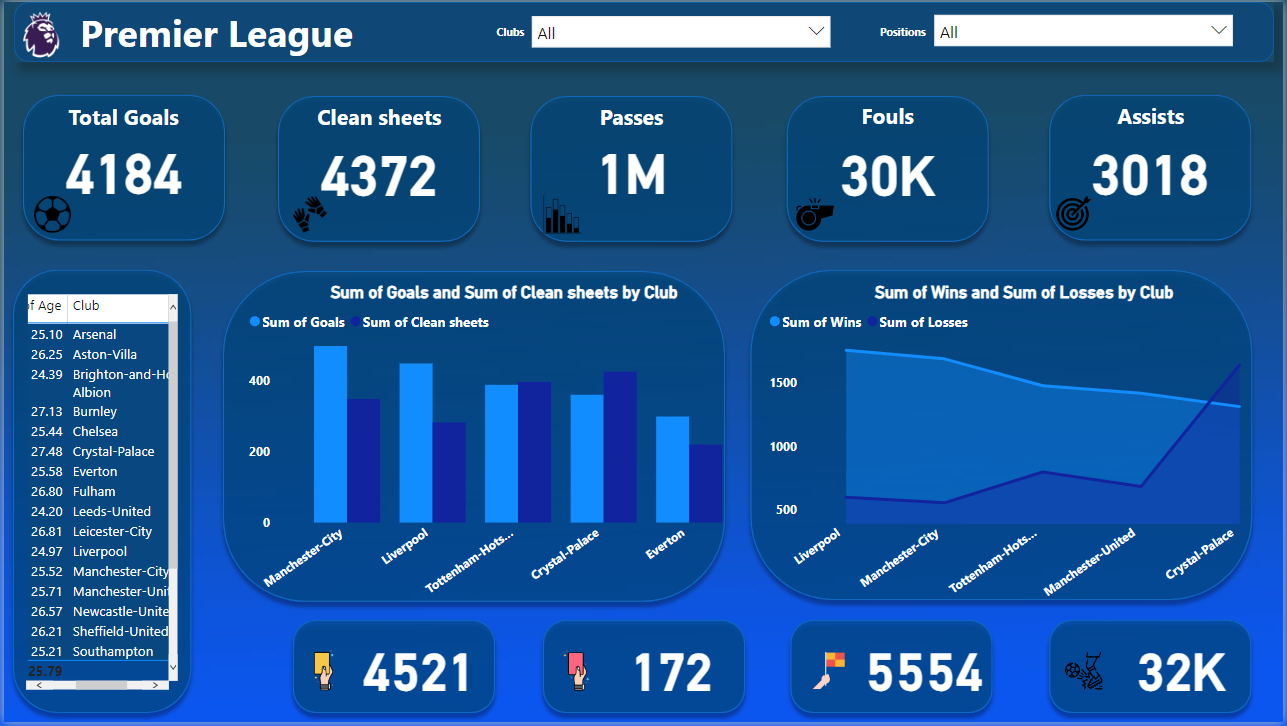

Layout of this report page (visuals, bound fields, positions):
{"tool":"powerbi","page":{"name":"premier league","canvas":[1280,720],"ordinal":0},"visuals":[{"type":"shape","box":[10,0,1260,60],"z":0},{"type":"textbox","box":[60,0,305,65],"z":1000},{"type":"slicer","fields":{"Values":["Sheet1.Club"]},"box":[517.5,3.8,318.8,58.8],"z":2000},{"type":"image","box":[0,0,73.8,65],"z":3000},{"type":"slicer","fields":{"Values":["Sheet1.Position"]},"box":[920,2.5,318.8,58.8],"z":4000},{"type":"textbox","box":[857.5,15,82.5,30],"z":5000},{"type":"textbox","box":[465,15,82.5,30],"z":6000},{"type":"shape","box":[10,83.8,220,163.8],"z":7000},{"type":"shape","box":[265,85,220,163.8],"z":8000},{"type":"shape","box":[517.5,85,220,163.8],"z":9000},{"type":"shape","box":[773.8,85,220,163.8],"z":10000},{"type":"shape","box":[1036.2,83.8,220,163.8],"z":11000},{"type":"card","title":"Total Goals","fields":{"Values":["Sum(Sheet1.Goals)"]},"box":[10,83.8,220,162.5],"z":12000},{"type":"card","title":"Total Goals","fields":{"Values":["Sum(Sheet1.Clean sheets)"]},"box":[265,86.2,220,162.5],"z":13000},{"type":"card","title":"Total Goals","fields":{"Values":["Sum(Sheet1.Passes)"]},"box":[517.5,83.8,220,162.5],"z":14000},{"type":"card","title":"Total Goals","fields":{"Values":["Sum(Sheet1.Fouls)"]},"box":[773.8,86.2,220,162.5],"z":15000},{"type":"card","title":"Total Goals","fields":{"Values":["Sum(Sheet1.Assists)"]},"box":[1036.2,85,220,162.5],"z":16000},{"type":"textbox","box":[32.5,94.8,174,41.6],"z":17000},{"type":"textbox","box":[281.8,94.8,188.3,41.6],"z":18000},{"type":"textbox","box":[558.4,94.8,137.7,42.9],"z":19000},{"type":"textbox","box":[801.3,93.5,164.9,42.9],"z":20000},{"type":"textbox","box":[1068.8,93.5,155.8,42.9],"z":21000},{"type":"shape","box":[737,259.3,519.8,348.1],"z":22000},{"type":"areaChart","fields":{"Y":["Sum(Sheet1.Wins)","Sum(Sheet1.Losses)"],"Category":["Sheet1.Club"]},"box":[760,280,520,327.5],"z":23000},{"type":"shape","box":[210,260,520,348.8],"z":24000},{"type":"clusteredColumnChart","fields":{"Category":["Sheet1.Club"],"Y":["Sum(Sheet1.Goals)","Sum(Sheet1.Clean sheets)"]},"box":[240,280,520,327.5],"z":25000},{"type":"shape","box":[0,258.8,196.2,461.2],"z":26000},{"type":"tableEx","fields":{"Values":["Avg(Sheet1.Age)","Sheet1.Club"]},"box":[17.5,287.5,161.2,405],"z":27000},{"type":"shape","box":[280,608.8,220,111.2],"z":28000},{"type":"shape","box":[777.5,608.8,220,111.2],"z":30000},{"type":"shape","box":[1036.2,608.8,220,111.2],"z":31000},{"type":"shape","box":[530,608.8,220,111.2],"z":31001},{"type":"card","title":"Total Goals","fields":{"Values":["Sum(Sheet1.Yellow cards)"]},"box":[345,628.8,140,71.2],"z":31002},{"type":"card","title":"Total Goals","fields":{"Values":["Sum(Sheet1.Red cards)"]},"box":[597.5,628.8,140,71.2],"z":31003},{"type":"card","title":"Total Goals","fields":{"Values":["Sum(Sheet1.Offsides)"]},"box":[850,628.8,140,71.2],"z":31004},{"type":"card","title":"Total Goals","fields":{"Values":["Sum(Sheet1.Shots)"]},"box":[1107.5,628.8,140,71.2],"z":31005},{"type":"image","box":[23.8,187.5,50,50],"z":31006},{"type":"image","box":[281.2,187.5,50,50],"z":31007},{"type":"image","box":[533.8,187.5,50,50],"z":31008},{"type":"image","box":[786.2,187.5,50,50],"z":31009},{"type":"image","box":[1043.8,187.5,50,50],"z":31010},{"type":"image","box":[295,636.2,50,63.8],"z":31011},{"type":"image","box":[547.5,637.5,50,62.5],"z":31012},{"type":"image","box":[800,637.5,50,62.5],"z":31013},{"type":"image","box":[1055,637.5,50,62.5],"z":31014}]}

Visuals, with their boxes in screenshot pixels (x1, y1, x2, y2), scaled from the page's 1280x720 canvas onto the 1287x726 screenshot:
shape: [10,0,1277,60]
textbox: [60,0,367,66]
slicer - Sheet1.Club: [520,4,841,63]
image: [0,0,74,66]
slicer - Sheet1.Position: [925,3,1246,62]
textbox: [862,15,945,45]
textbox: [468,15,550,45]
shape: [10,84,231,250]
shape: [266,86,488,251]
shape: [520,86,742,251]
shape: [778,86,999,251]
shape: [1042,84,1263,250]
"Total Goals" card: [10,84,231,248]
"Total Goals" card: [266,87,488,251]
"Total Goals" card: [520,84,742,248]
"Total Goals" card: [778,87,999,251]
"Total Goals" card: [1042,86,1263,250]
textbox: [33,96,208,138]
textbox: [283,96,473,138]
textbox: [561,96,700,139]
textbox: [806,94,971,138]
textbox: [1075,94,1231,138]
shape: [741,261,1264,612]
areaChart - Sum(Sheet1.Wins) x Sum(Sheet1.Losses): [764,282,1286,613]
shape: [211,262,734,614]
clusteredColumnChart - Sheet1.Club x Sum(Sheet1.Goals): [241,282,764,613]
shape: [0,261,197,725]
tableEx - Avg(Sheet1.Age) x Sheet1.Club: [18,290,180,698]
shape: [282,614,503,725]
shape: [782,614,1003,725]
shape: [1042,614,1263,725]
shape: [533,614,754,725]
"Total Goals" card: [347,634,488,706]
"Total Goals" card: [601,634,742,706]
"Total Goals" card: [855,634,995,706]
"Total Goals" card: [1114,634,1254,706]
image: [24,189,74,239]
image: [283,189,333,239]
image: [537,189,587,239]
image: [790,189,841,239]
image: [1050,189,1100,239]
image: [297,642,347,706]
image: [550,643,601,706]
image: [804,643,855,706]
image: [1061,643,1111,706]
